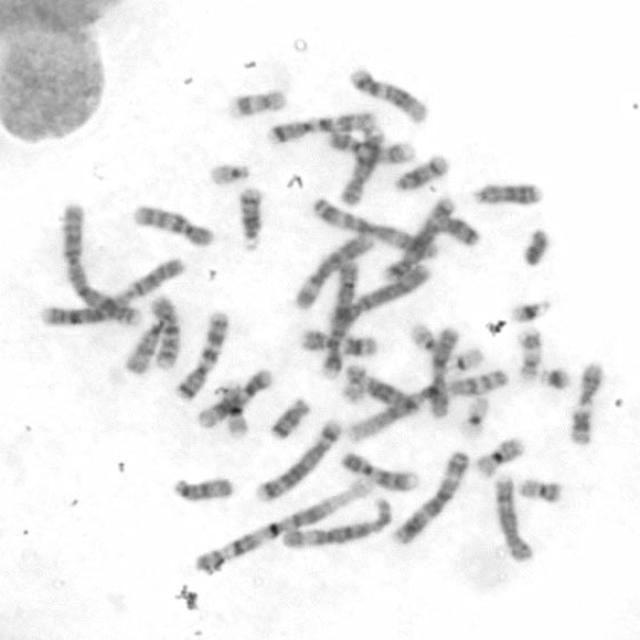A1: (191, 477, 376, 578), (346, 367, 511, 444)
A2: (60, 202, 144, 328), (40, 256, 186, 328)
A3: (313, 195, 438, 260), (391, 448, 470, 547)
B4: (328, 263, 431, 325), (318, 256, 361, 384)
B5: (253, 416, 342, 506), (381, 195, 457, 282)
C10: (131, 201, 215, 249), (149, 292, 182, 369)
C11: (568, 358, 604, 445), (299, 326, 377, 358)
C12: (193, 366, 274, 431), (350, 66, 431, 124)
C6: (292, 232, 376, 311), (279, 497, 397, 550)
C7: (173, 308, 231, 402), (266, 110, 377, 146)
C8: (336, 124, 385, 208), (493, 474, 534, 562)
C9: (336, 449, 419, 492), (327, 130, 418, 167)
D13: (364, 374, 422, 421), (470, 181, 546, 209)
D14: (394, 152, 451, 194), (236, 187, 265, 254)
D15: (119, 315, 168, 378), (173, 474, 234, 504)
E16: (471, 434, 528, 481), (220, 384, 252, 438)
E17: (225, 88, 289, 120), (515, 326, 543, 385)
E18: (265, 395, 313, 443), (433, 213, 482, 249)
F19: (439, 344, 486, 376), (460, 394, 490, 436)
F20: (518, 477, 564, 504), (342, 363, 366, 406)
G21: (509, 297, 556, 323), (537, 365, 574, 393)
G22: (208, 159, 252, 185), (405, 321, 439, 354)
X: (427, 324, 462, 420)
Y: (522, 226, 553, 267)
